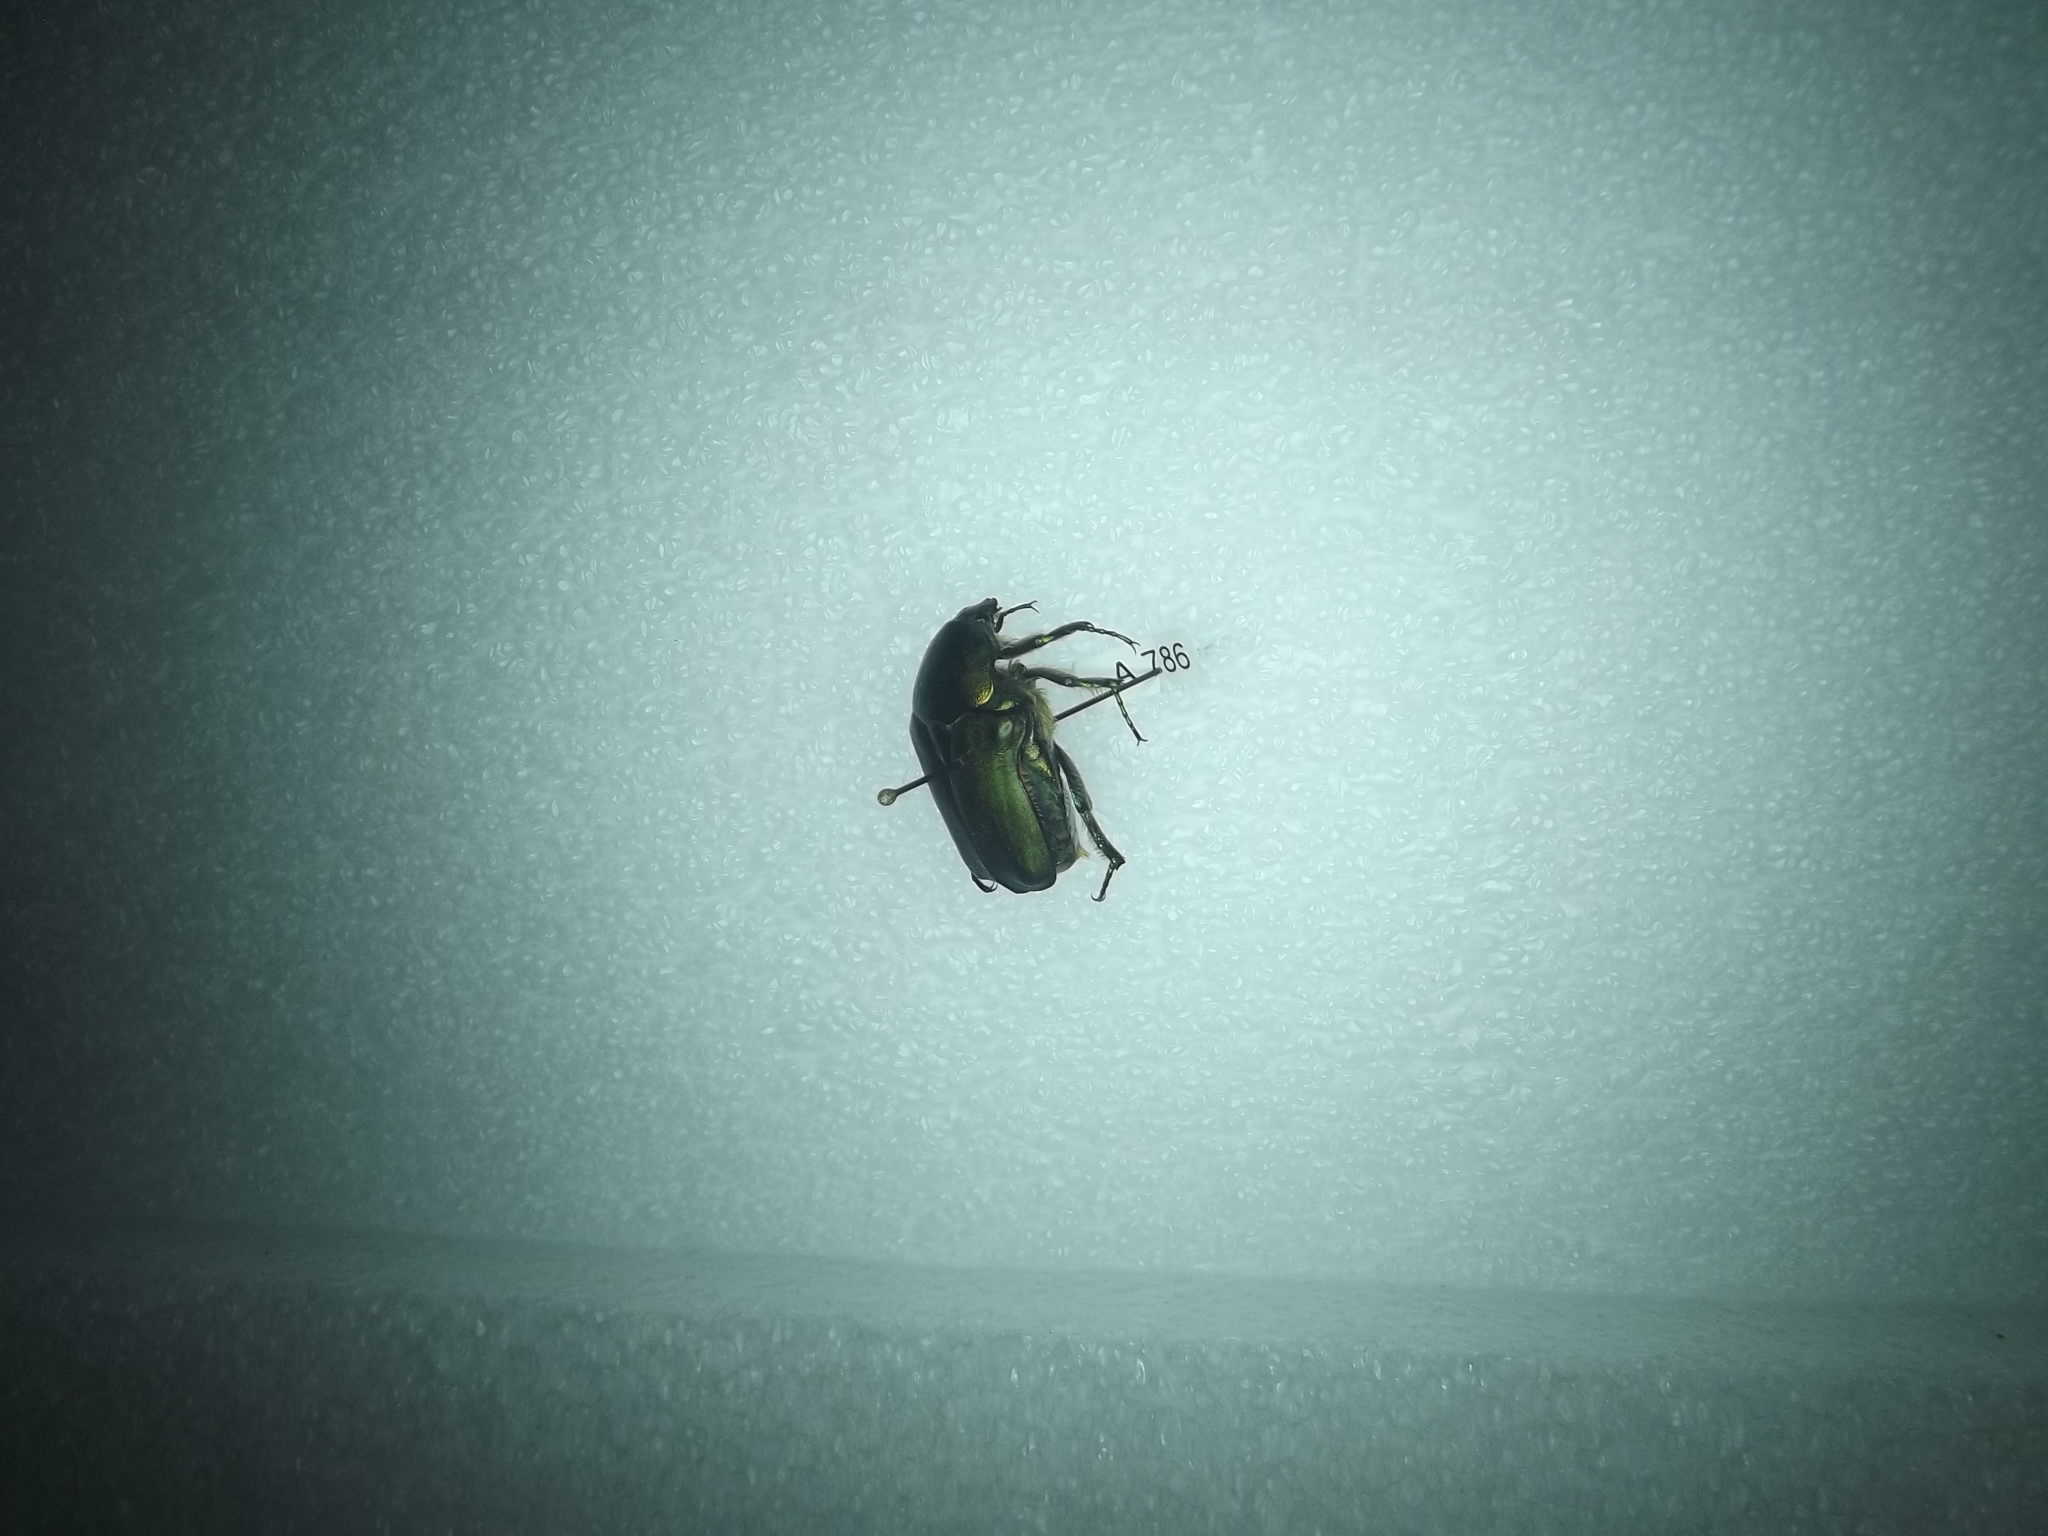Protaetia_ungarica_americana: (905, 560, 1148, 928)
